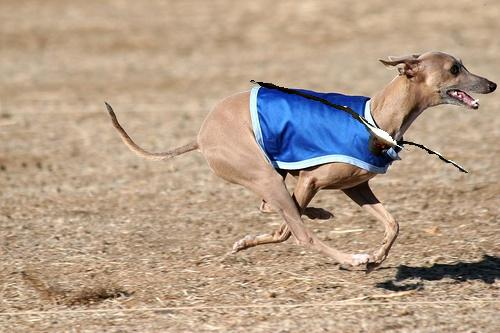tampered: (251, 81, 468, 173)
